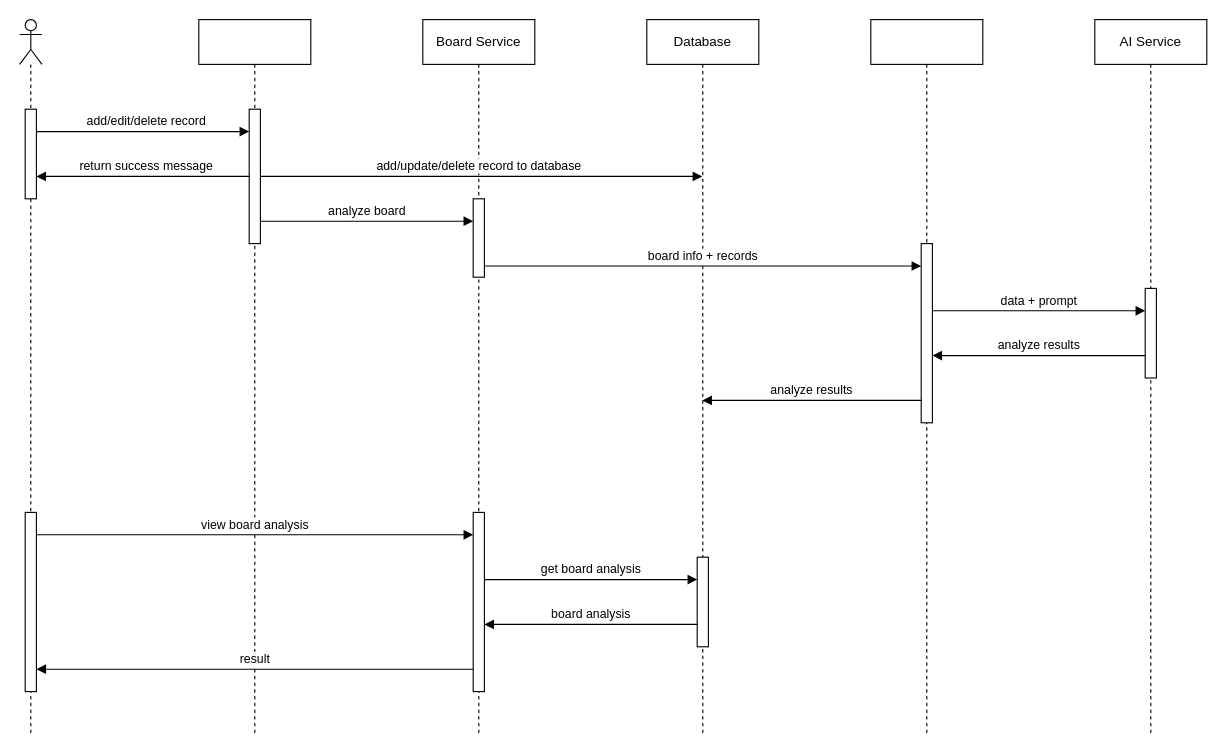
This 1226x756 diagram has some shape labels left out. The box of each missing label's shape, as (x1, y1, x2, y2) in pixels:
Analyze Service: (870, 18, 983, 736)
Record Service: (198, 18, 311, 736)
